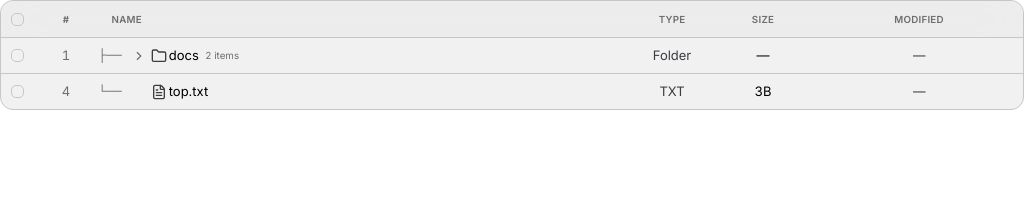
Test case: ArchiveTree › should_expand_a_folder_and_drop_its_chunk_on_collapse
The width and height of the screenshot is (1024, 199).
Expected: the text "docs" is shown, [169,47,199,64]
Click the button named "Expand folder": (139, 56) [130,46,149,65]
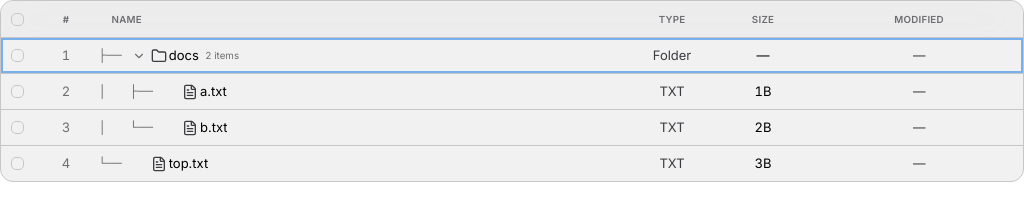
Now the text "a.txt" is shown, box [200,83,227,100]
# Collapse drops the chunk (RAM goal): re-expanding refetches.
Click the button named "Collapse folder": (139, 56) [130,46,149,65]
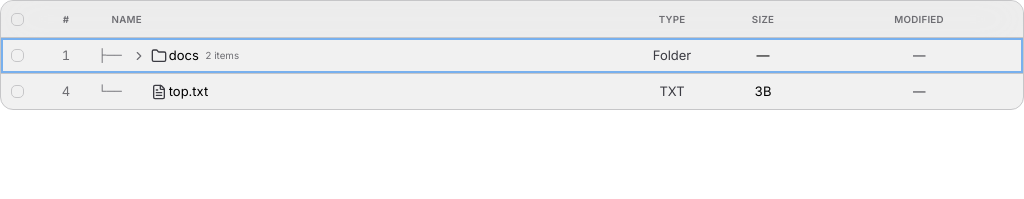
Now the text "a.txt" is gone
Click the button named "Expand folder": (139, 56) [130,46,149,65]
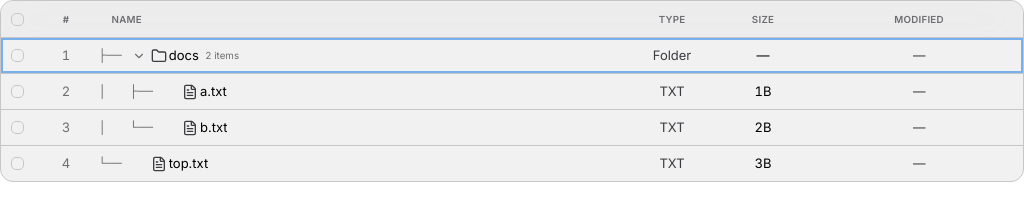
Now the text "a.txt" is shown, box [200,83,227,100]
